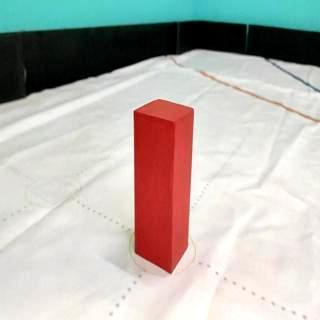redbox: (133, 98, 194, 274)
